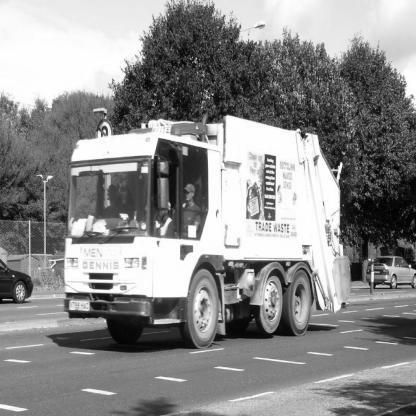truck: (46, 110, 358, 350)
